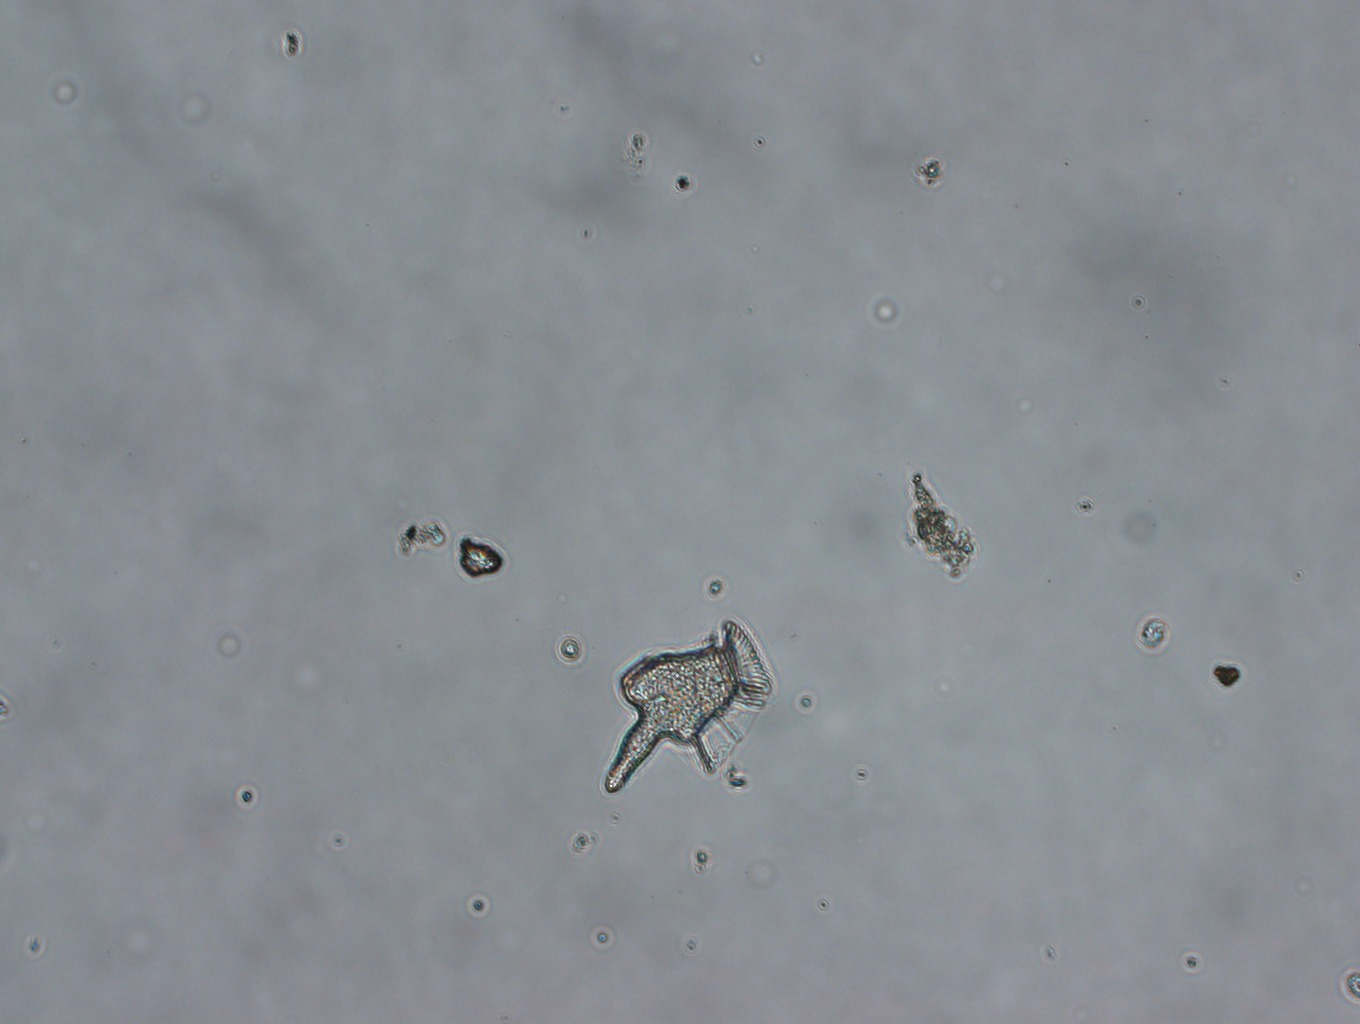dinophysis caudata: (602, 617, 774, 793)
